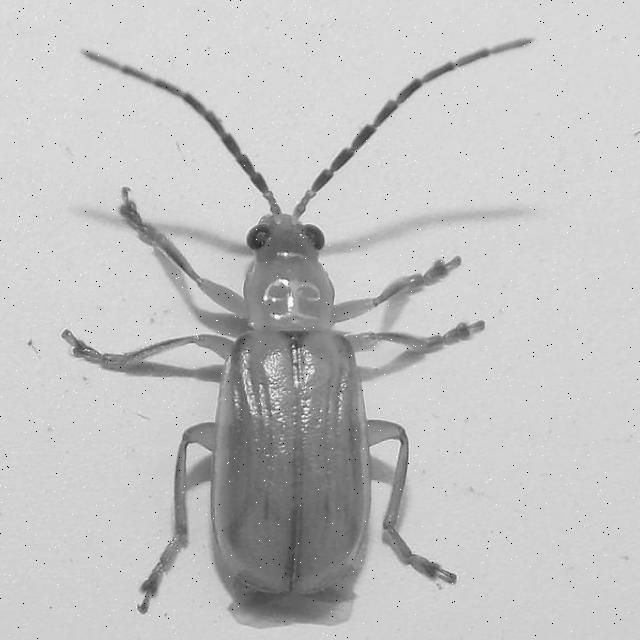gusano_gris: (72, 31, 602, 640)
